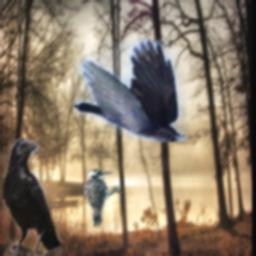Crow: (73, 40, 187, 143), (2, 139, 61, 256)
Woodpecker: (82, 168, 123, 227)
